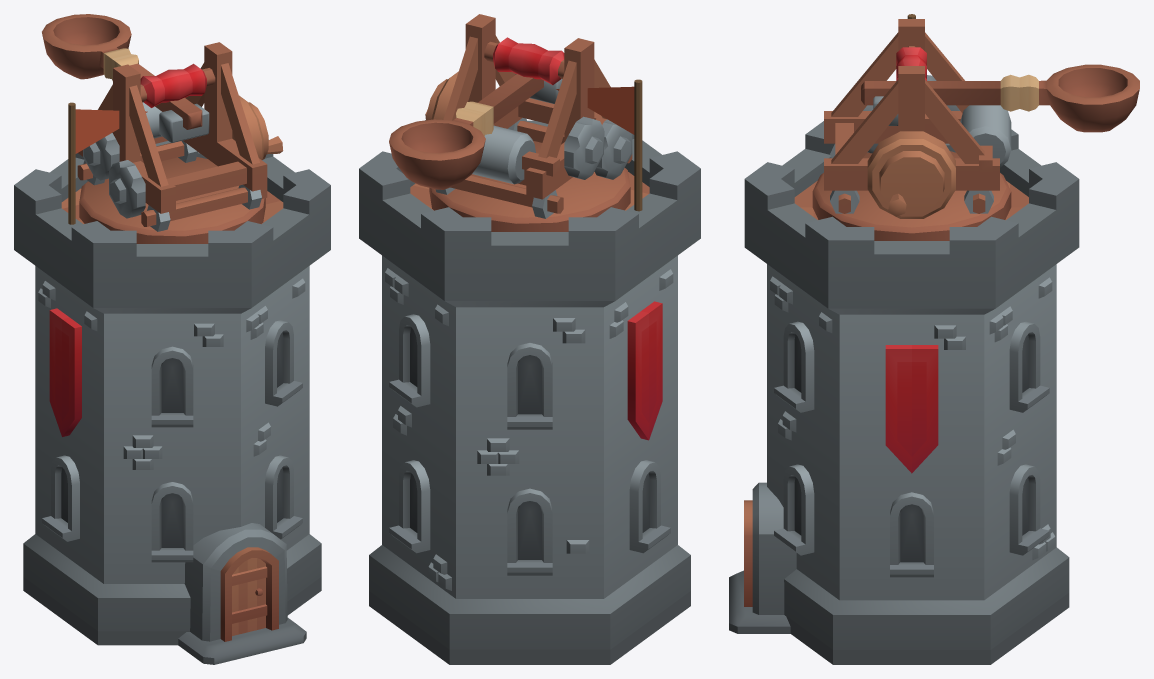
File: tower-rust.glb
3 views of the same model, side by side, from view 1: azimuth 30°, elevation 25°; view 2: azimuth 150°, elevation 25°; view 3: azimuth 270°, elevation 25° (orthographic). The views are drawn at different scales.
Parts seen in each view (by area): view 1: building_tower_catapult_red, catapult_turret_red, catapult_arm_red, team-standard, standard-pole; view 2: building_tower_catapult_red, catapult_turret_red, catapult_arm_red, team-standard, standard-pole; view 3: building_tower_catapult_red, catapult_turret_red, catapult_arm_red.
Part boxes in pixels (bbox=[...]): building_tower_catapult_red: bbox=[14, 141, 330, 664]; catapult_turret_red: bbox=[77, 42, 283, 243]; catapult_arm_red: bbox=[42, 14, 209, 142]; team-standard: bbox=[75, 109, 147, 153]; standard-pole: bbox=[68, 102, 75, 224]; building_tower_catapult_red: bbox=[359, 120, 700, 664]; catapult_turret_red: bbox=[425, 14, 632, 231]; catapult_arm_red: bbox=[389, 74, 562, 189]; team-standard: bbox=[556, 86, 634, 134]; standard-pole: bbox=[634, 79, 642, 211]; building_tower_catapult_red: bbox=[729, 121, 1079, 664]; catapult_turret_red: bbox=[812, 19, 1011, 240]; catapult_arm_red: bbox=[861, 64, 1139, 132].
Size of the model in its own units: 2.51 by 5.3 by 3.52.
3 materials, 1 textured.
